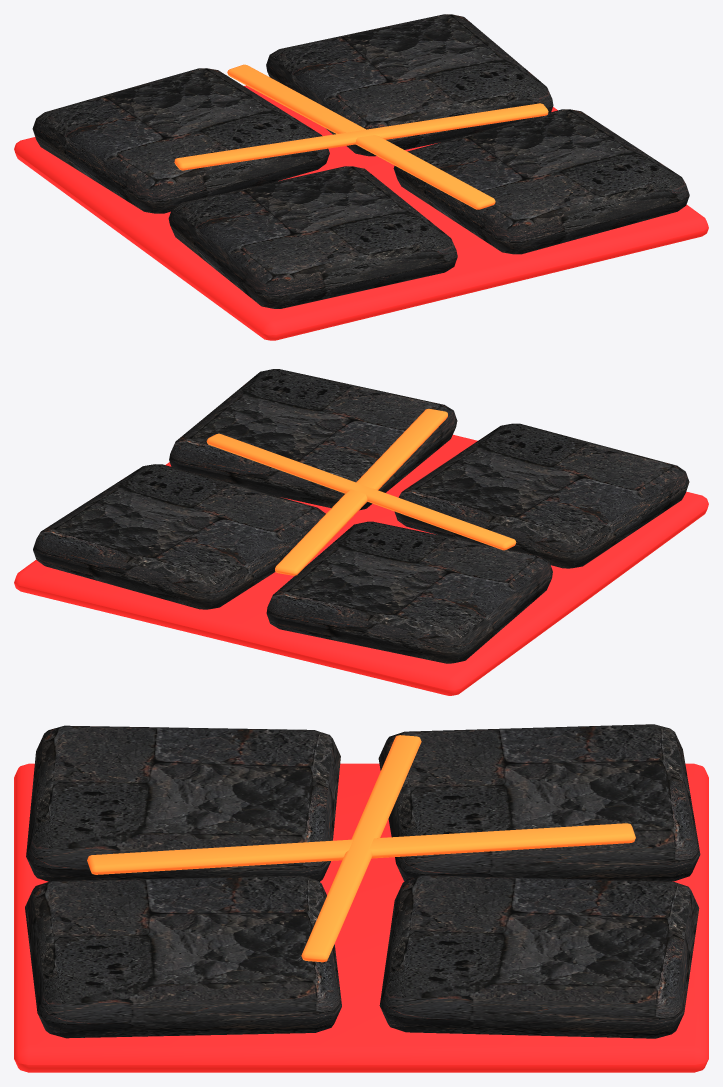
File: w3_tile_collapse.glb
The picture shows the model from 3 angles, top to bottom: view 1: azimuth 30°, elevation 25°; view 2: azimuth 150°, elevation 25°; view 3: azimuth 270°, elevation 25°; orthographic projection. The views are drawn at different scales.
Parts seen in each view (by area): view 1: w3_tile_collapse; view 2: w3_tile_collapse; view 3: w3_tile_collapse.
Part boxes in pixels (x1=…): w3_tile_collapse: x1=14, y1=14, x2=708, y2=340; w3_tile_collapse: x1=14, y1=369, x2=708, y2=695; w3_tile_collapse: x1=14, y1=724, x2=708, y2=1072.
Size of the model in its own units: 1.64 by 0.2285 by 1.64.
Materials: 3 (1 with a texture image).
